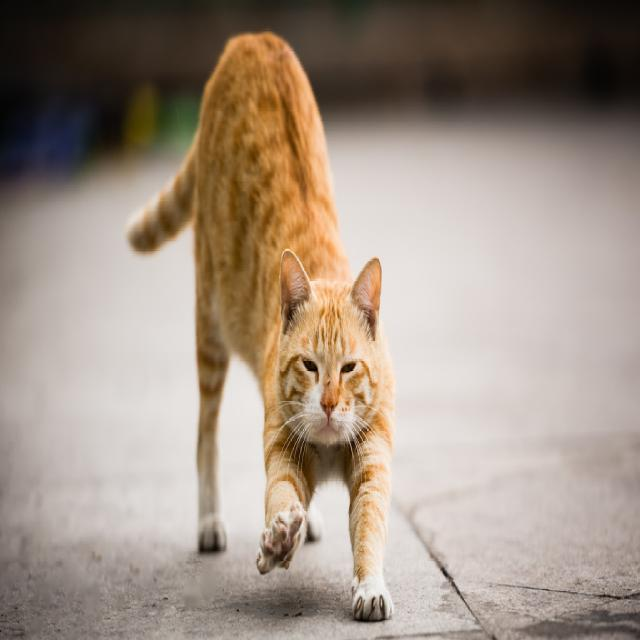Cat: (123, 28, 398, 622)
